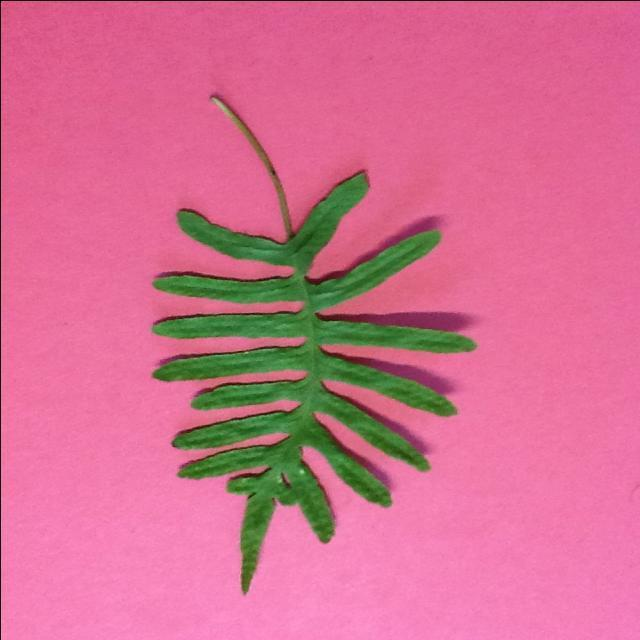foliage: (150, 96, 477, 602)
